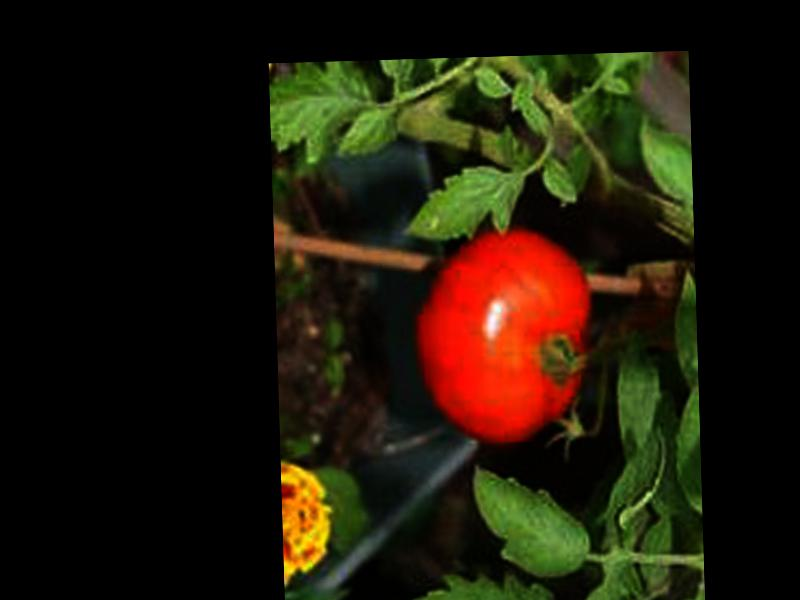Tomato: (414, 222, 597, 450)
